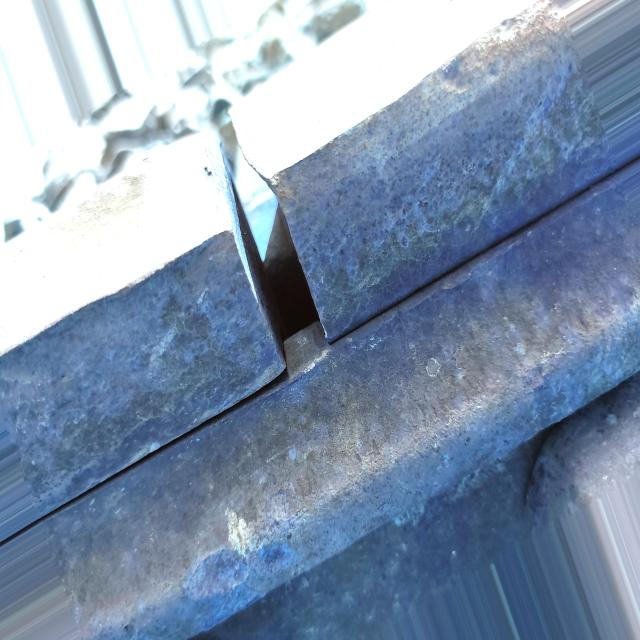crack: (158, 71, 368, 376)
